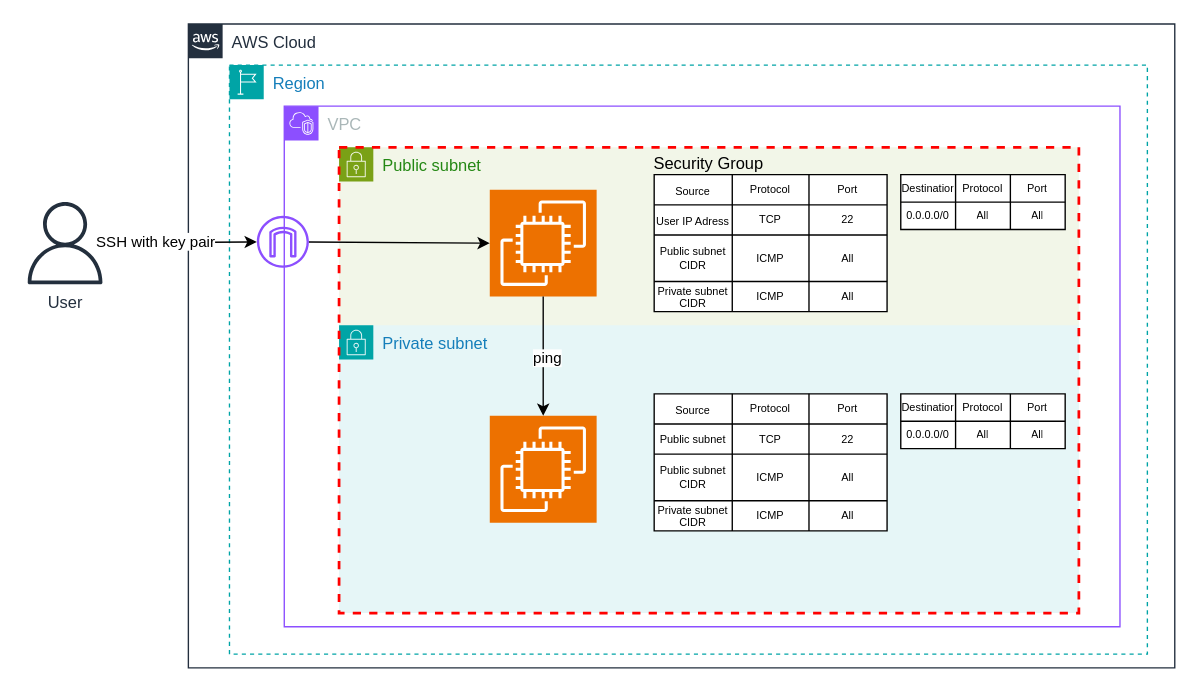
Some shapes in this 1199 by 692 pixel diagram are drawn without their labels. The centre of each missing label's shape, as x and y in pixels:
"EC2 instanec 1" goes at (542,242).
"EC2 instanec 2" goes at (542,468).
"Internet Gateway" goes at (282,241).
